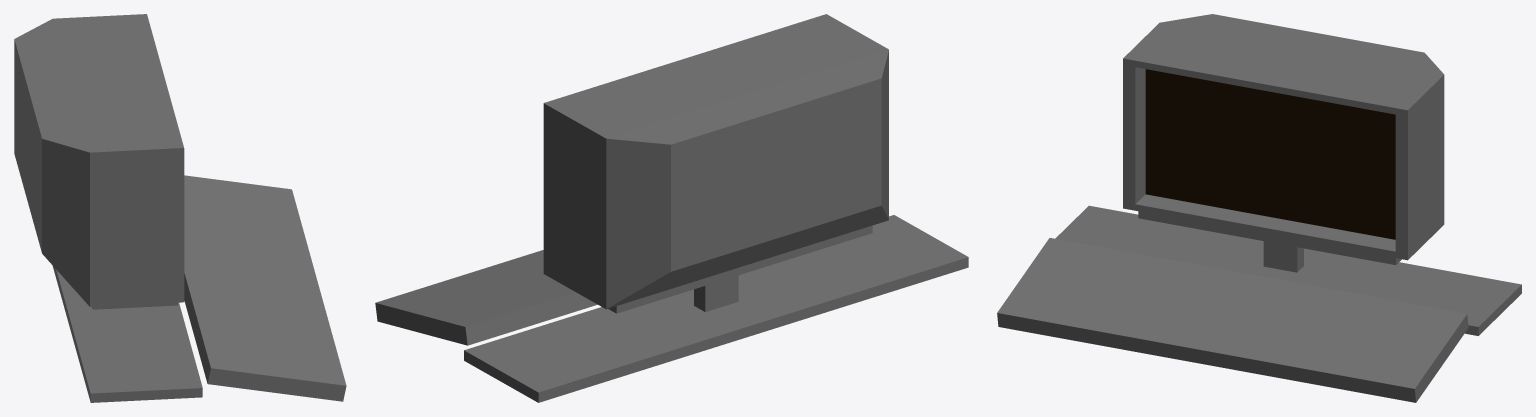
The picture shows the model from 3 angles, left to right: view 1: azimuth 30°, elevation 25°; view 2: azimuth 150°, elevation 25°; view 3: azimuth 270°, elevation 25°; orthographic projection. The views are drawn at different scales.
Visible parts, largest first — view 1: pCube9; view 2: pCube9; view 3: pCube9.
Part boxes in pixels (x1=…): pCube9: x1=14, y1=14, x2=346, y2=402; pCube9: x1=375, y1=14, x2=968, y2=402; pCube9: x1=997, y1=14, x2=1521, y2=402.
Bounding box in the file's own units: 12.58 × 7.49 × 15.94.
